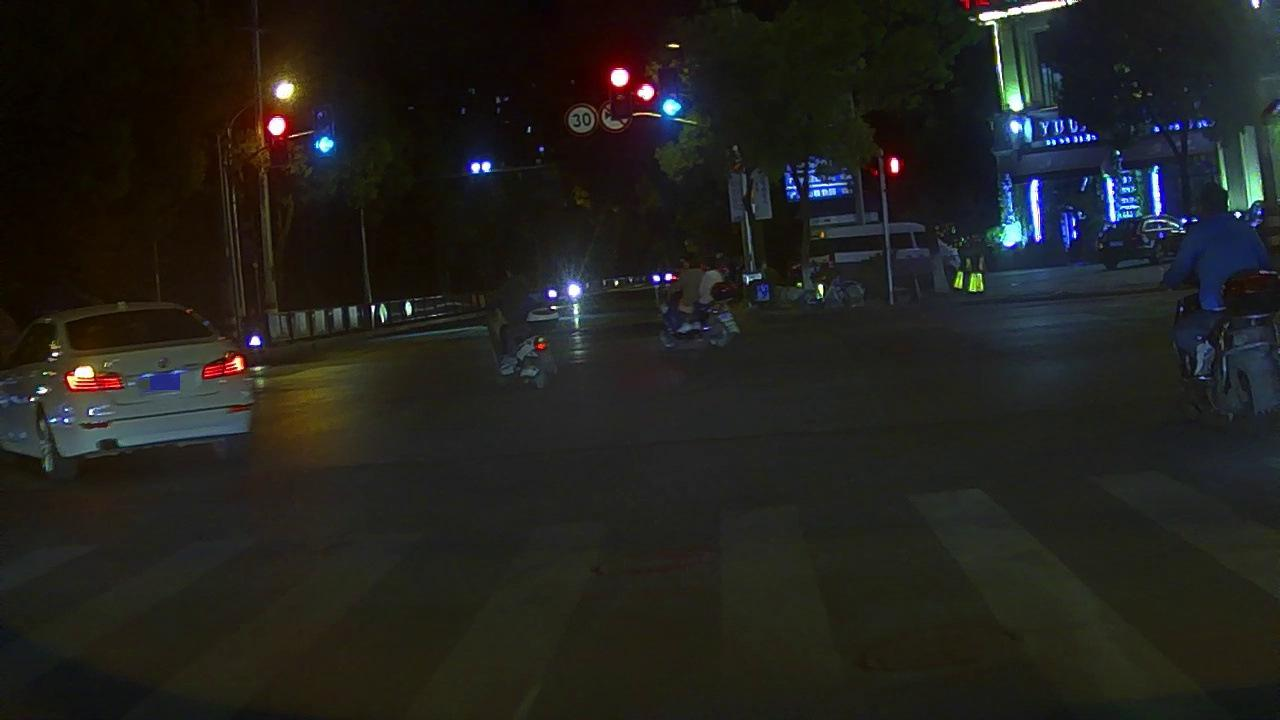traffic_light: (634, 74, 660, 110), (263, 111, 289, 144), (657, 93, 687, 120), (608, 62, 631, 95), (312, 131, 337, 160), (880, 155, 903, 177)
